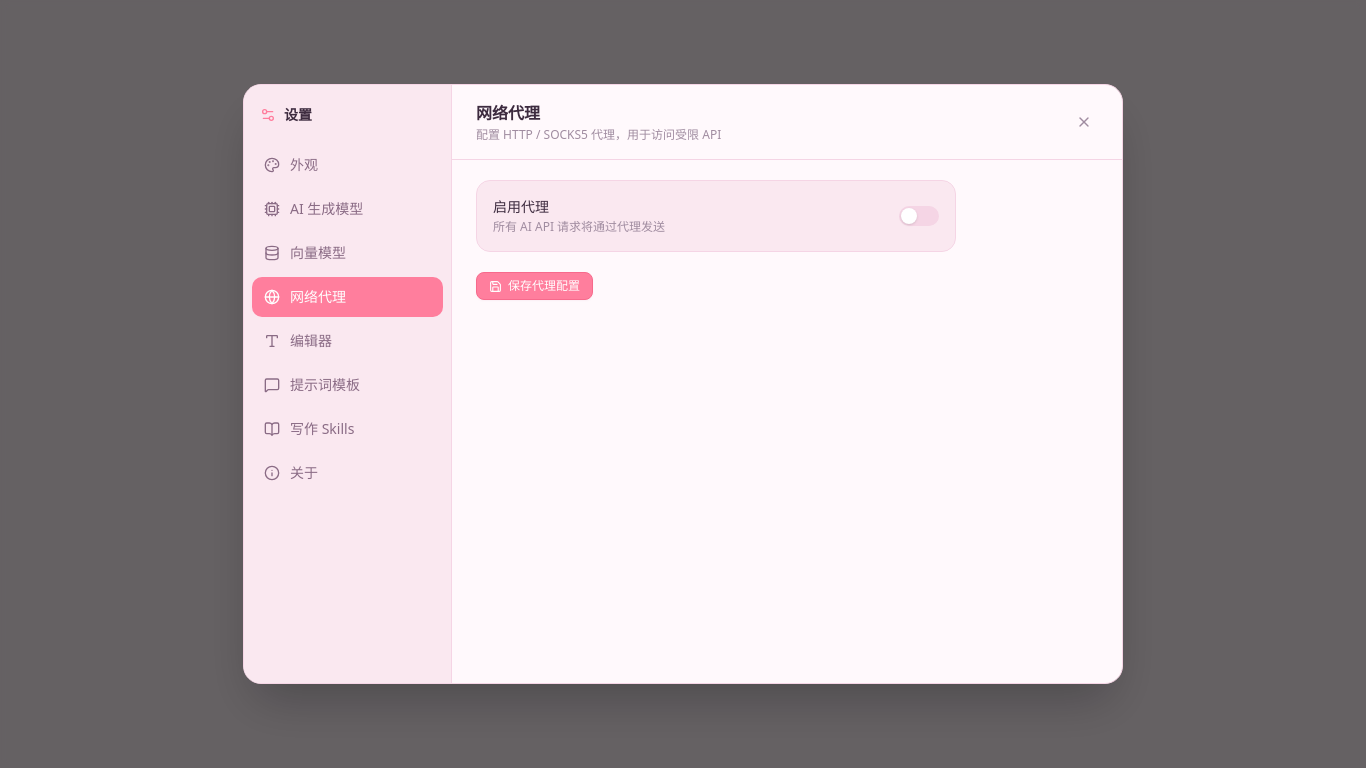
Scenario: settings persistence truthfulness › does not report proxy settings as saved after a transport rejection
The width and height of the screenshot is (1366, 768).
Step 1. Click the button "保存代理配置" → {"x": 534, "y": 286}, box [476,272,593,300]
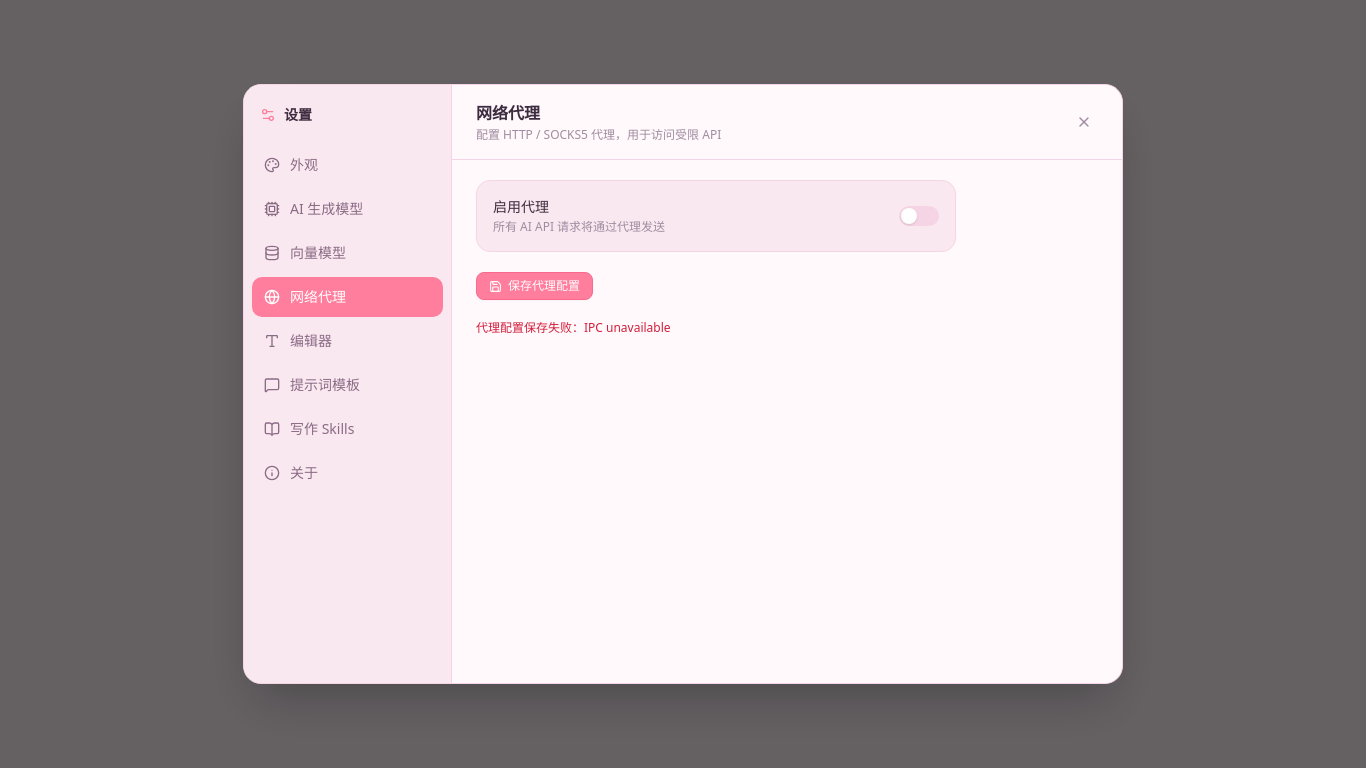
Result: the text "代理配置保存失败：IPC unavailable" is shown at [476,319,671,336]
